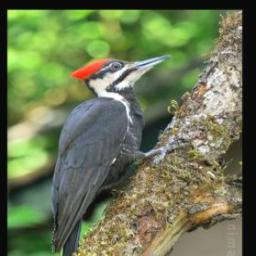Woodpecker: (39, 52, 189, 256)
